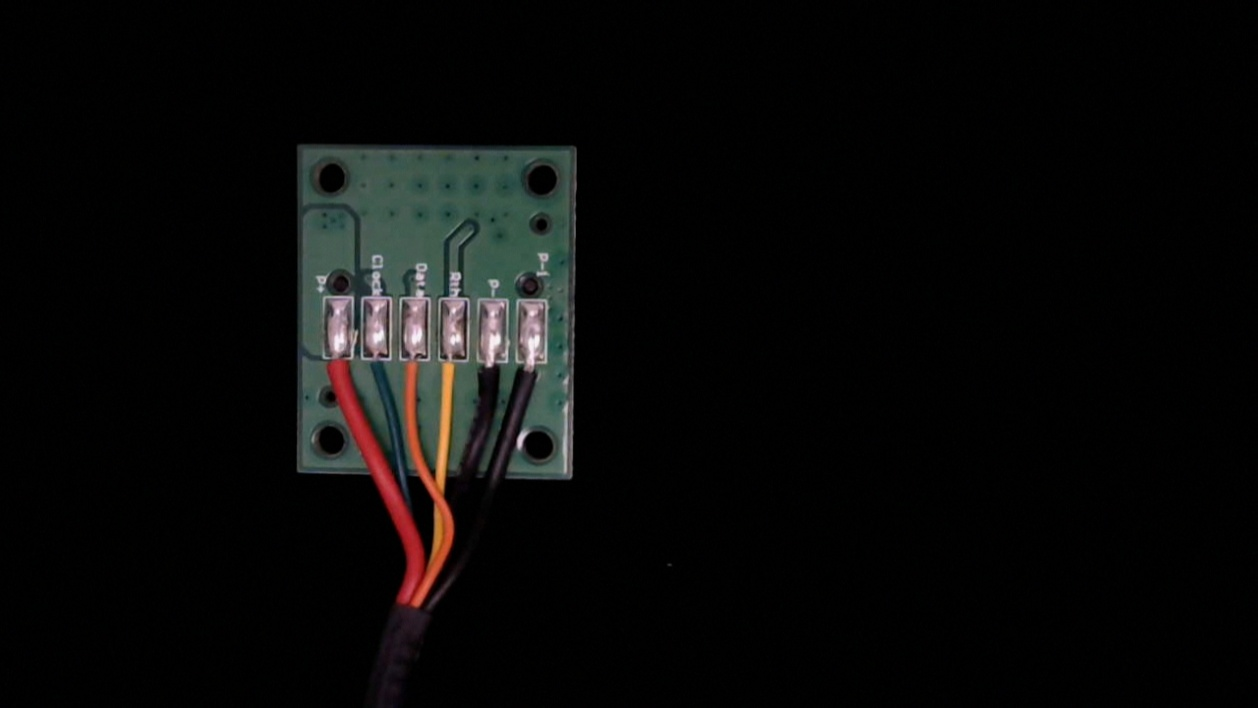Black: (475, 343, 509, 415)
Black1: (517, 341, 551, 407)
Green: (362, 340, 395, 402)
Orange: (397, 339, 431, 401)
Red: (322, 342, 356, 404)
Yellow: (437, 341, 472, 415)
